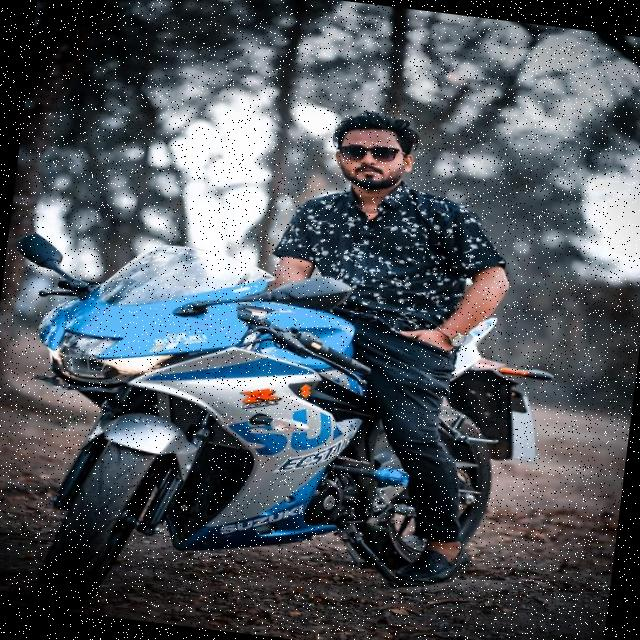No helmet: (318, 98, 434, 215)
